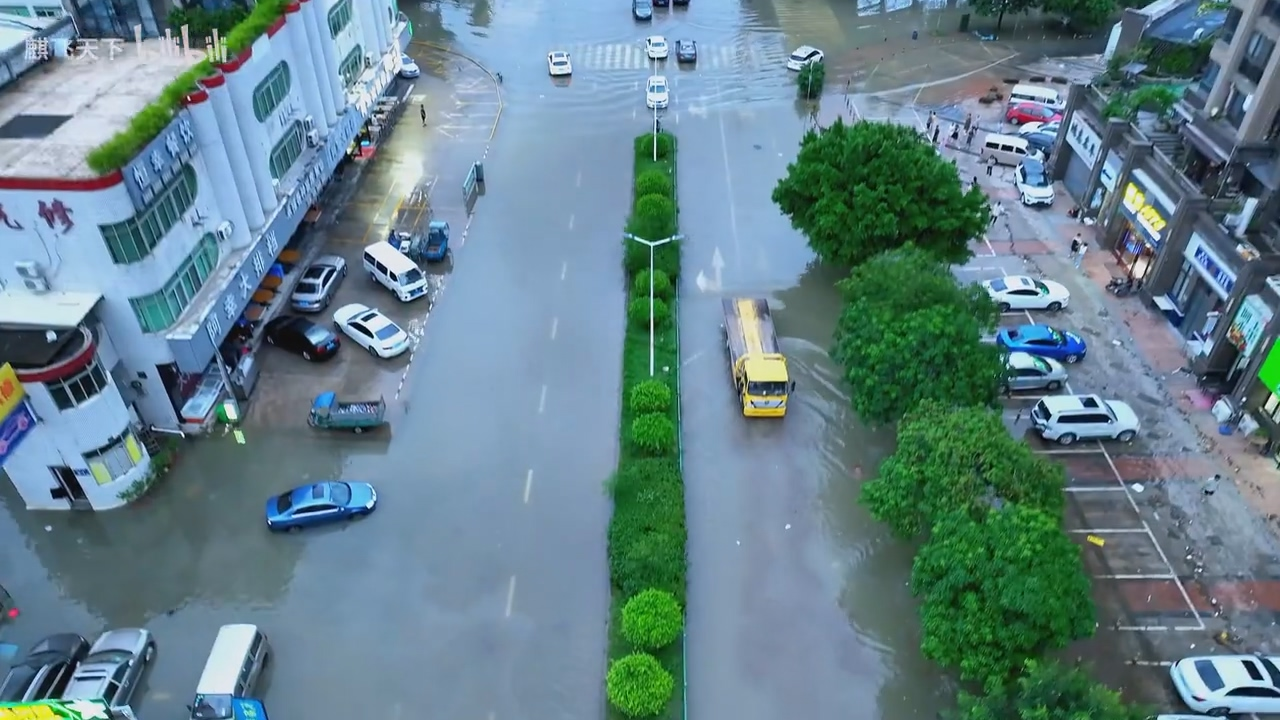puddle: (396, 194, 895, 720)
